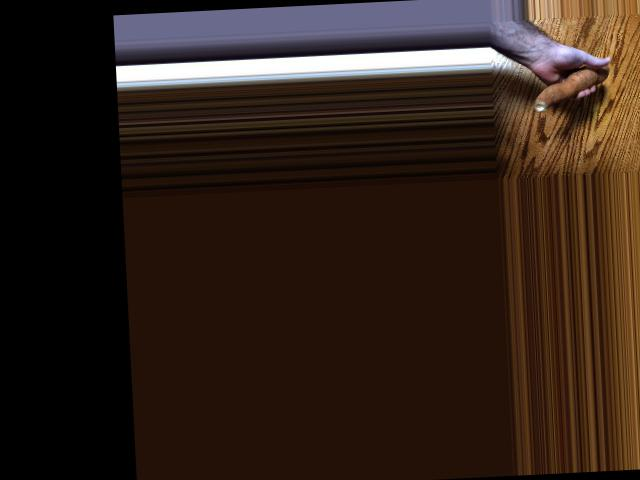sweet_potato: (528, 66, 607, 112)
